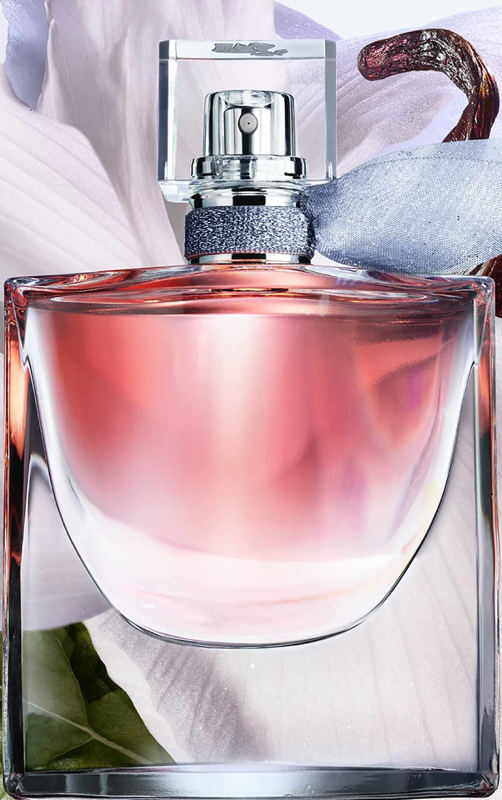lancome_la_vie_est_belle: (7, 23, 496, 788)
